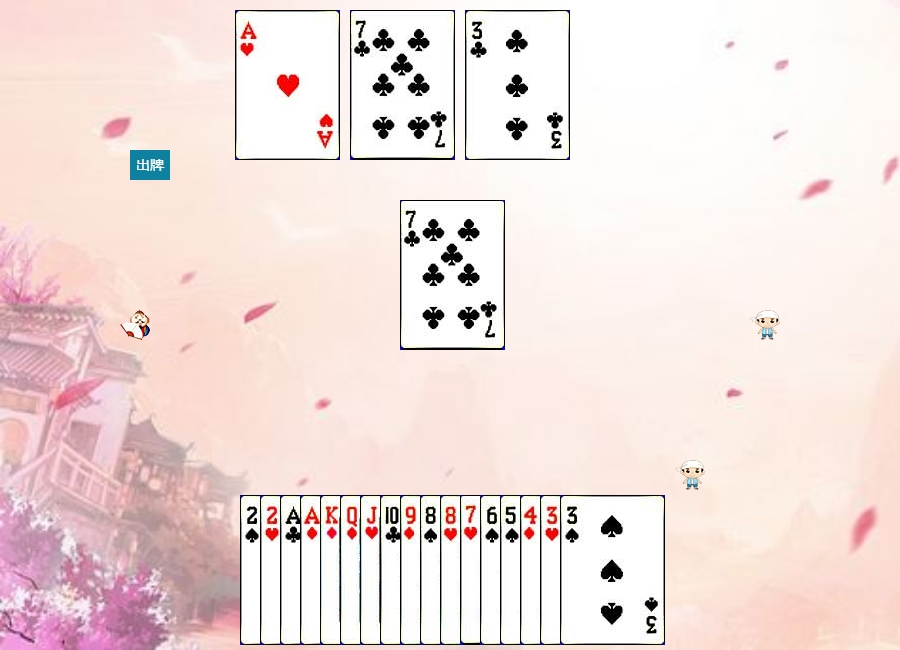10~2: (380, 495, 485, 645)
11~3: (360, 495, 465, 645)
12~1: (340, 495, 445, 645)
13~1: (320, 495, 425, 645)
14~1: (300, 495, 405, 645)
14~2: (280, 495, 385, 645)
14~3: (235, 10, 340, 160)
15~3: (260, 495, 365, 645)
15~4: (240, 495, 345, 645)
3~2: (465, 10, 570, 160)
3~3: (540, 495, 645, 645)
3~4: (560, 495, 665, 645)
4~1: (520, 495, 625, 645)
5~4: (500, 495, 605, 645)
6~4: (480, 495, 585, 645)
7~2: (350, 10, 455, 160), (400, 200, 505, 350)
7~3: (460, 495, 565, 645)
8~3: (440, 495, 545, 645)
8~4: (420, 495, 525, 645)
9~1: (400, 495, 505, 645)
